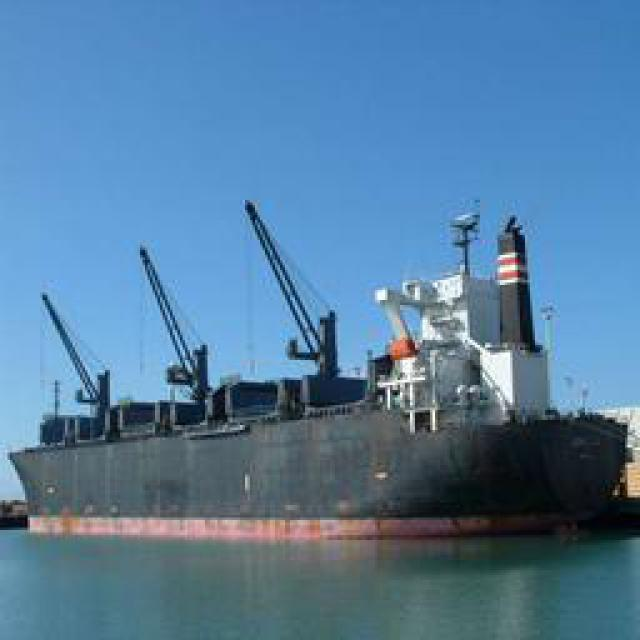Ship: (8, 204, 635, 543)
